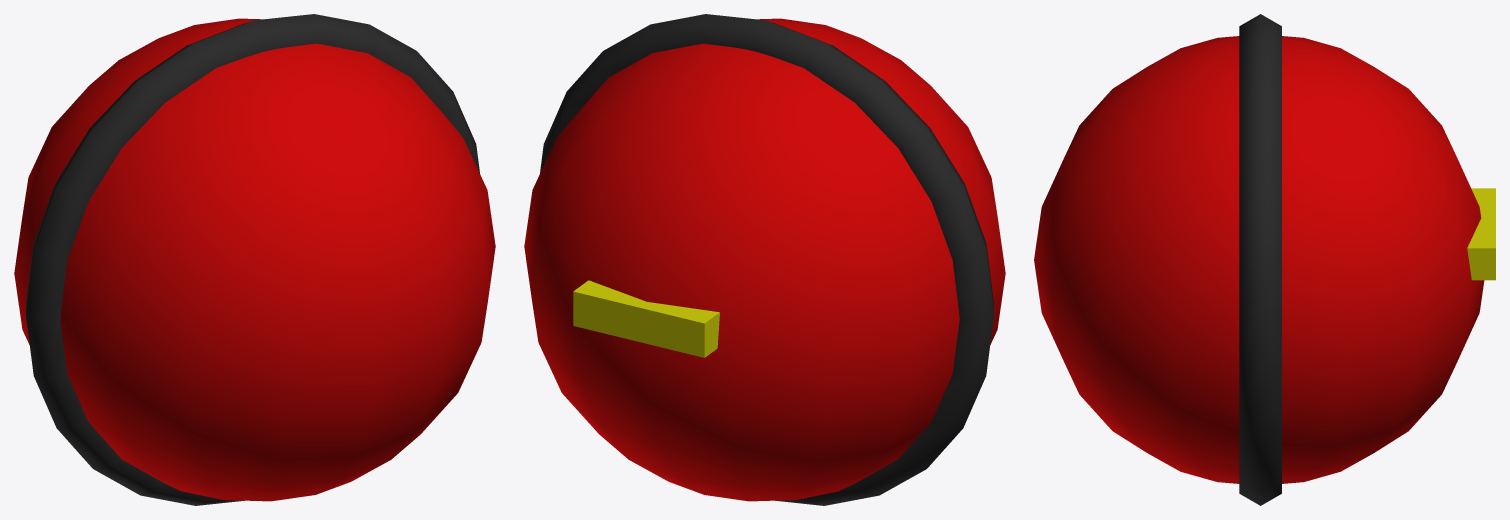
File: boss_eclipse_bit.obj
3 views of the same model, side by side, from view 1: azimuth 30°, elevation 25°; view 2: azimuth 150°, elevation 25°; view 3: azimuth 270°, elevation 25° (orthographic). The views are drawn at different scales.
Parts seen in each view (by area): view 1: bit, band; view 2: bit, band, eye; view 3: bit, band, eye.
Boxes of the visible parts, x1,y1,x2,y2 form: bit: [14, 18, 495, 501]; band: [26, 14, 479, 505]; bit: [524, 18, 1005, 501]; band: [540, 14, 993, 505]; eye: [573, 280, 719, 357]; bit: [1034, 36, 1484, 483]; band: [1239, 14, 1281, 505]; eye: [1467, 188, 1495, 280].
Bounding box in the file's own units: 0.6972 × 0.6972 × 0.6522.
